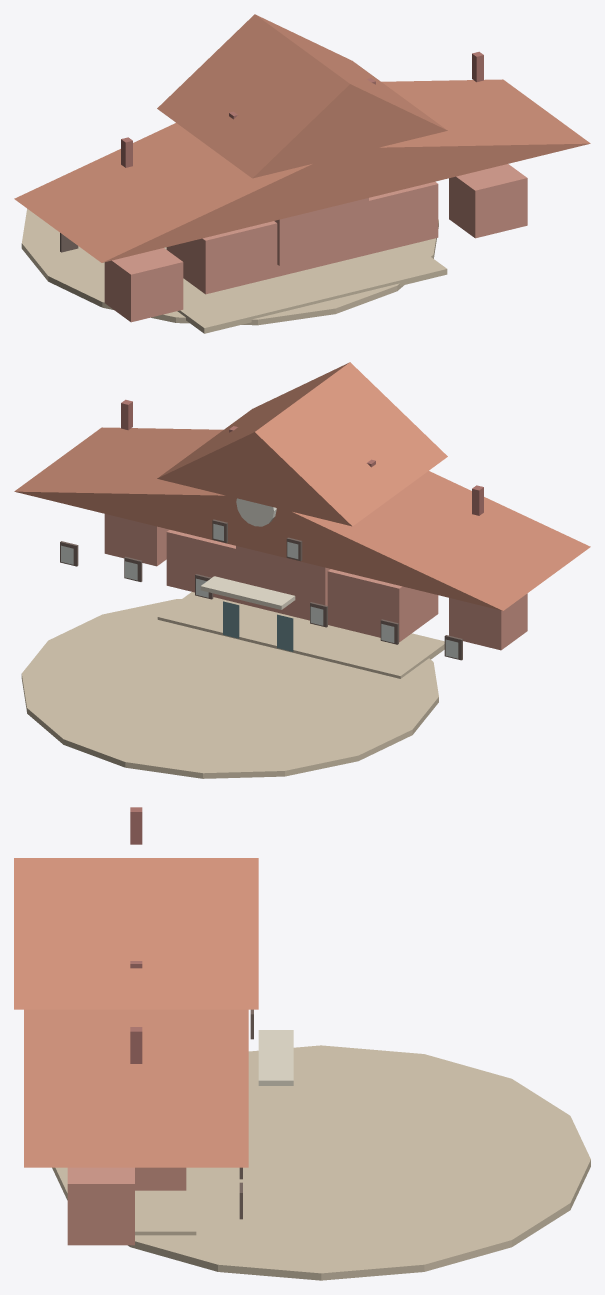
The model's file is ravnbro-station.glb.
3 views of the same model, one above another, from view 1: azimuth 30°, elevation 25°; view 2: azimuth 150°, elevation 25°; view 3: azimuth 270°, elevation 25° (orthographic). The views are drawn at different scales.
Parts seen in each view (by area): view 1: wing_roof, hall_roof, wing, plinth, forecourt, bay_-2.55, bay_2.55, hall; view 2: forecourt, wing_roof, hall_roof, wing, plinth, hall, bay_-2.55, bay_2.55, canopy, clock, door_0.4, door_-0.4; view 3: forecourt, hall_roof, wing_roof, bay_2.55, plinth, canopy, wing.
Boxes of the visible parts, x1,y1,x2,y2 form: wing_roof: [14, 79, 590, 262]; hall_roof: [157, 14, 447, 178]; wing: [166, 182, 438, 294]; plinth: [177, 244, 447, 333]; forecourt: [21, 208, 438, 325]; bay_-2.55: [104, 248, 183, 322]; bay_2.55: [449, 164, 527, 238]; hall: [274, 198, 368, 265]; forecourt: [21, 599, 438, 778]; wing_roof: [14, 427, 590, 610]; hall_roof: [157, 362, 447, 526]; wing: [166, 530, 438, 642]; plinth: [157, 592, 444, 678]; hall: [236, 546, 330, 610]; bay_-2.55: [449, 593, 527, 650]; bay_2.55: [104, 514, 169, 566]; canopy: [200, 576, 295, 609]; clock: [236, 498, 276, 526]; door_0.4: [223, 601, 239, 638]; door_-0.4: [277, 614, 293, 651]; forecourt: [52, 1045, 590, 1280]; hall_roof: [14, 858, 258, 1009]; wing_roof: [24, 1009, 248, 1167]; bay_2.55: [67, 1167, 134, 1245]; plinth: [135, 1167, 196, 1235]; canopy: [258, 1030, 293, 1085]; wing: [135, 1167, 186, 1190].
Bounding box in the file's own units: 7.25 × 3.41 × 5.78.
